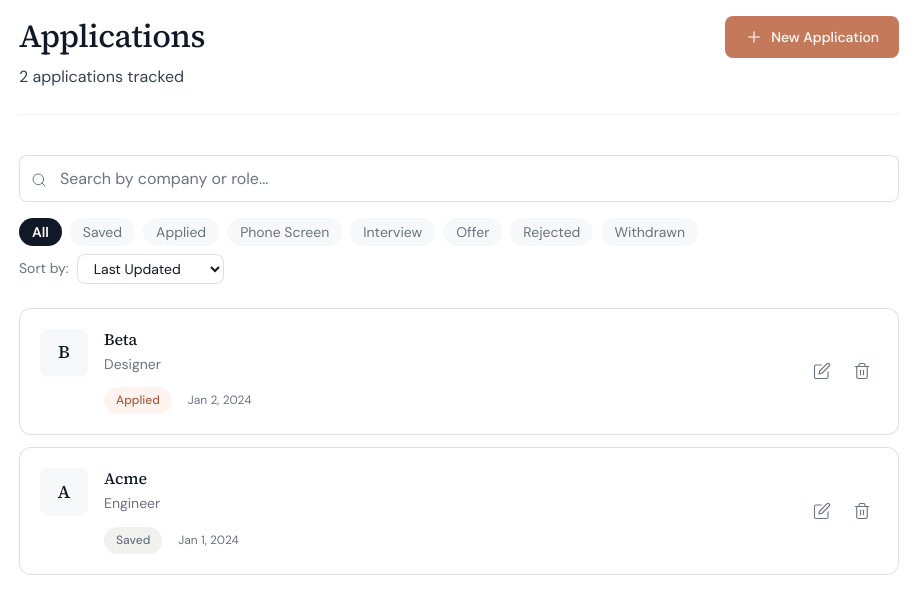
Test: ApplicationsList › filters applications by search query
Step 1. Type "Acme" into the field with placeholder "Search by company or role..." → (459, 178), box [19,155,899,202]
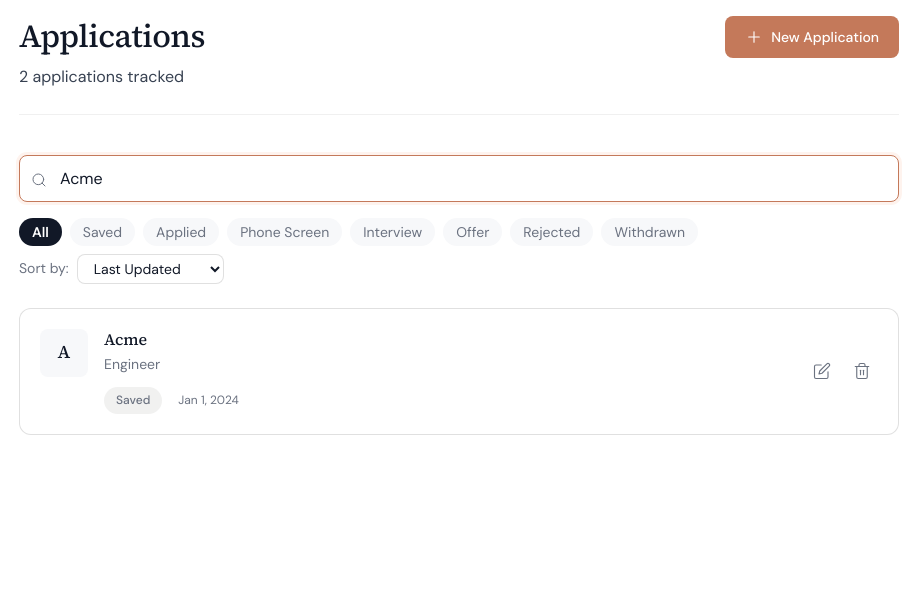
Expected: the heading "Acme" is shown, [104,328,147,350]
Expected: the heading "Beta" is gone
